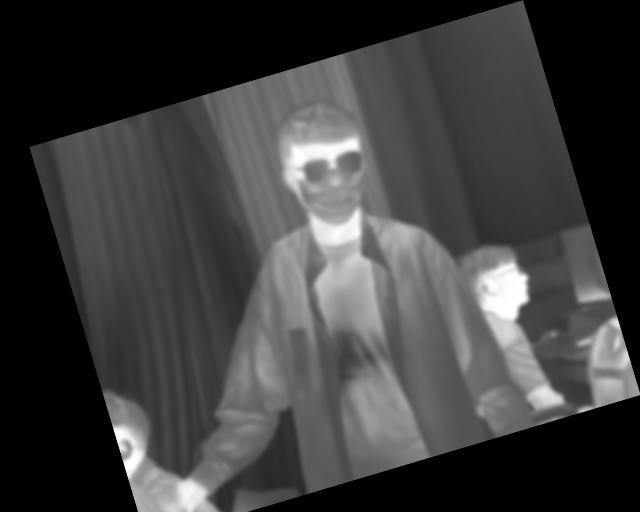face: (263, 88, 388, 238)
